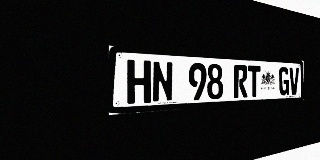8: (207, 63, 223, 100)
9: (189, 62, 206, 101)
G: (279, 67, 289, 96)
H: (127, 60, 151, 104)
N: (152, 61, 173, 103)
R: (234, 65, 247, 98)
T: (248, 65, 260, 97)
V: (289, 67, 299, 95)
